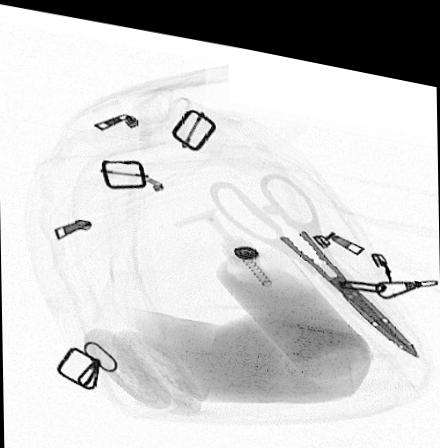Scissors: (207, 161, 421, 343)
